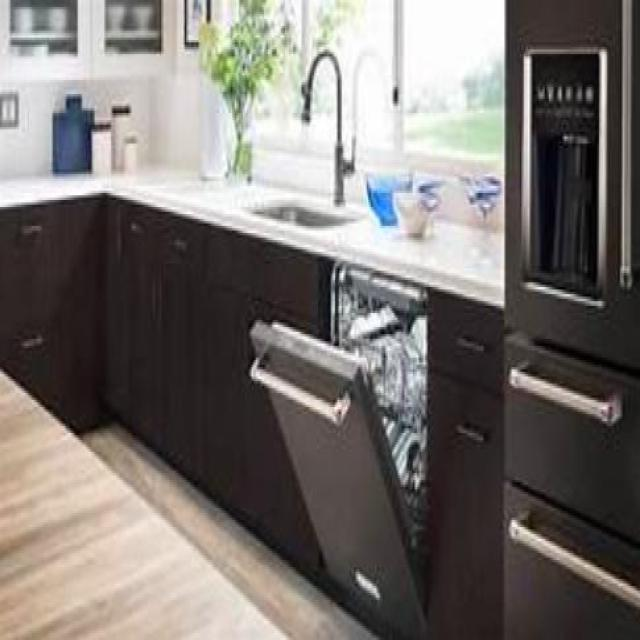dishwasher: (248, 256, 428, 636)
